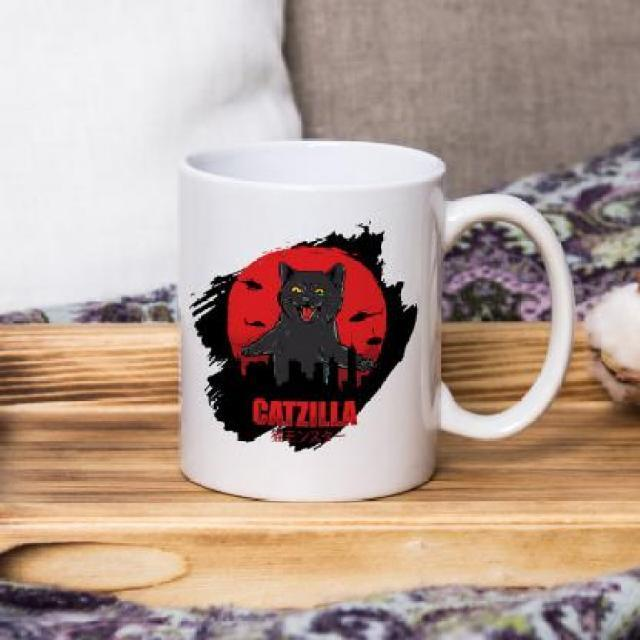taza: (180, 126, 580, 522)
